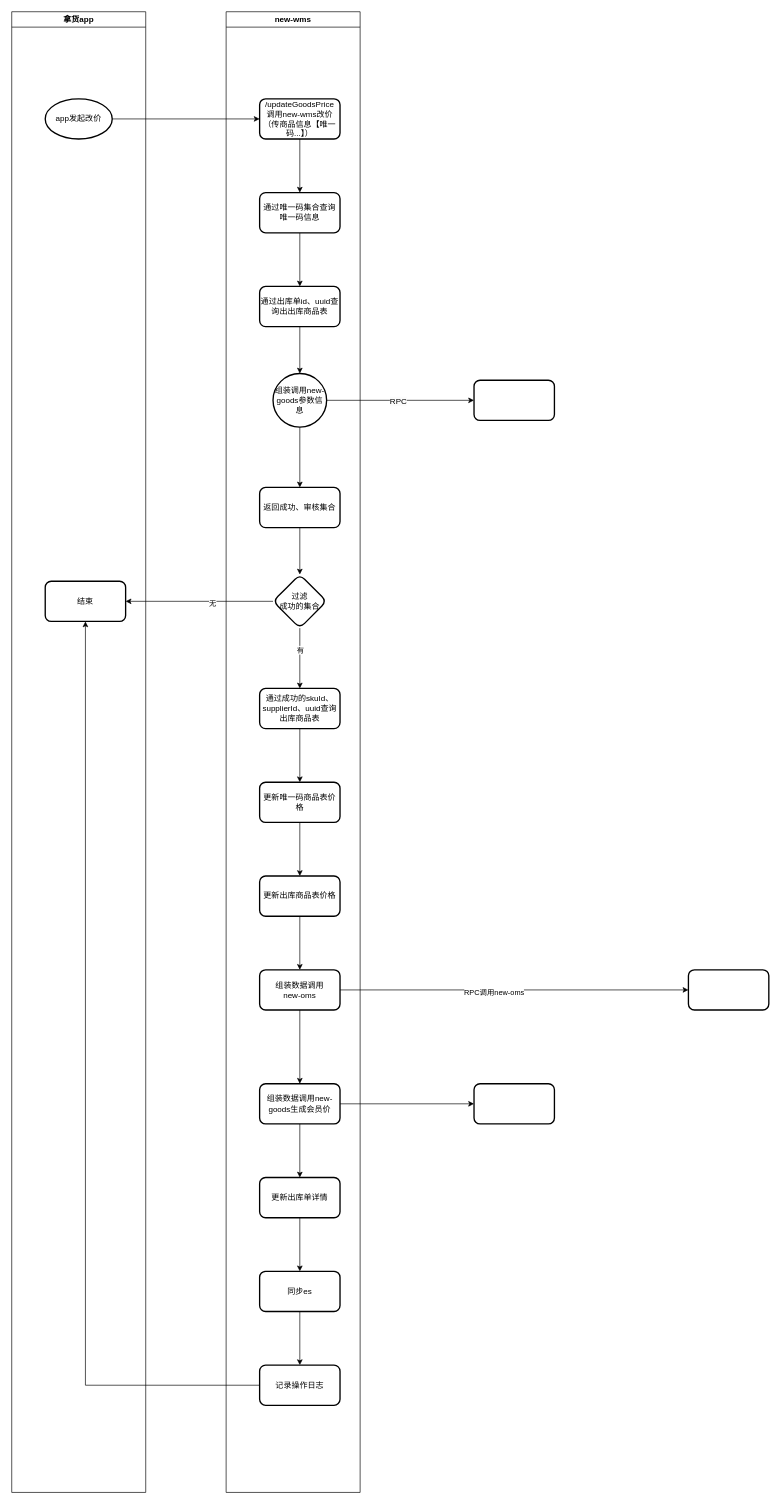
Some shapes in this 781 by 1504 pixel diagram are drawn without their labels. The shapes that lost their labels are listed below. From the top down, each one's centre as x and y in pixels, then its label:
[514,400]: /picker-submit
[728,989]: /wmsUpdatePrice
[514,1103]: /return_oder
